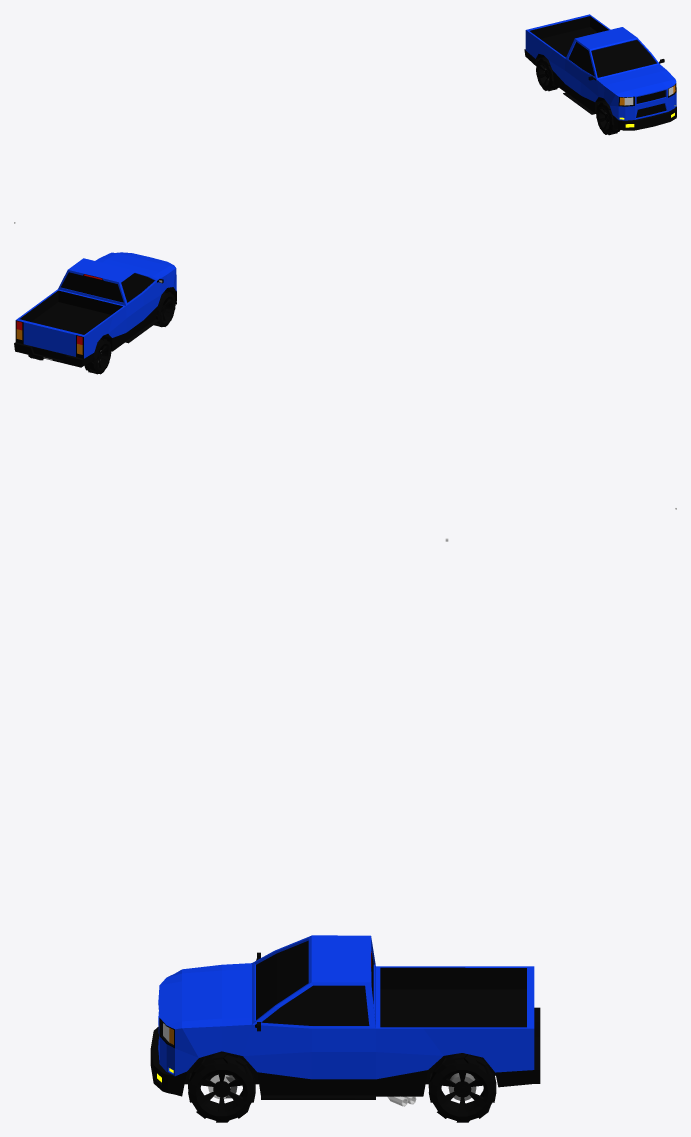
Rendered from hylux.fbx.
3 renders of one model, top to bottom at view 1: azimuth 30°, elevation 25°; view 2: azimuth 150°, elevation 25°; view 3: azimuth 270°, elevation 25°, orthographic. The views are drawn at different scales.
Visible parts, largest first — view 1: Truck.Body, Truck.Wheel.Ft.R, Truck.Wheel.Bk.R; view 2: Truck.Body, Truck.Wheel.Bk.R, Truck.Wheel.Ft.R; view 3: Truck.Body, Truck.Wheel.Bk.L, Truck.Wheel.Ft.L.
Part boxes in pixels (<box>): Truck.Body: <box>524,14,676,130</box>; Truck.Wheel.Ft.R: <box>596,101,620,135</box>; Truck.Wheel.Bk.R: <box>536,57,558,91</box>; Truck.Body: <box>14,252,176,367</box>; Truck.Wheel.Bk.R: <box>84,338,111,374</box>; Truck.Wheel.Ft.R: <box>153,291,175,327</box>; Truck.Body: <box>150,935,540,1106</box>; Truck.Wheel.Bk.L: <box>428,1053,496,1122</box>; Truck.Wheel.Ft.L: <box>188,1053,255,1122</box>.
Bounding box in the file's own units: 115798 × 12257 × 32386.
